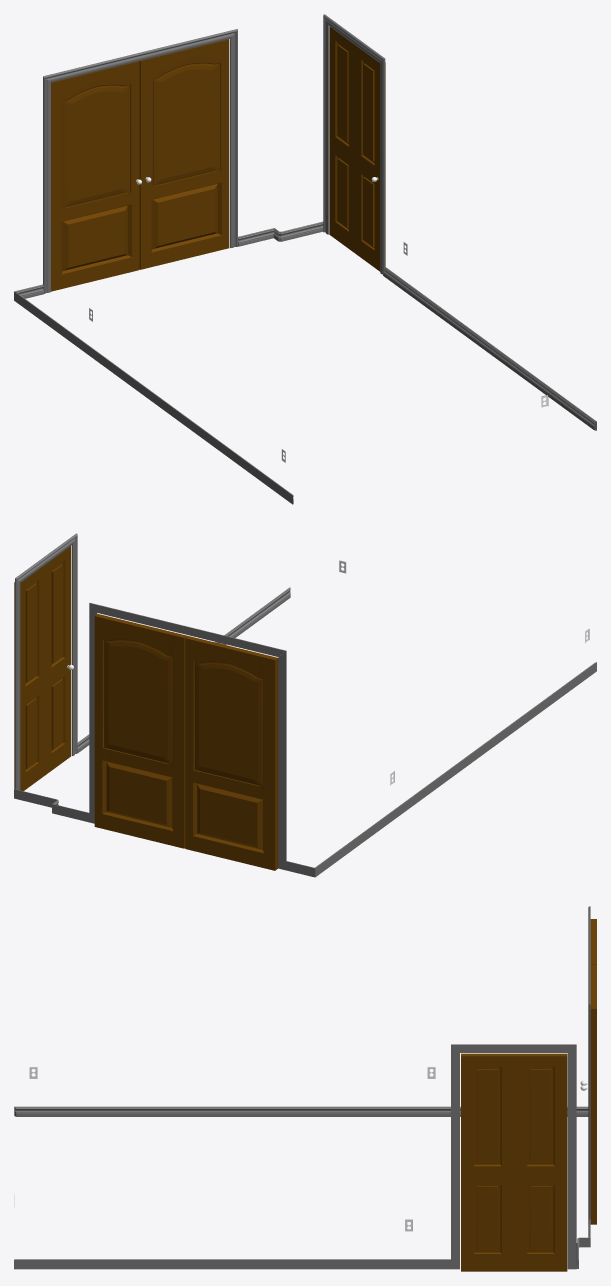
Rendered from Doors&FloorBoards.obj.
3 views of the same model, one above another, from view 1: azimuth 30°, elevation 25°; view 2: azimuth 150°, elevation 25°; view 3: azimuth 270°, elevation 25° (orthographic). The views are drawn at different scales.
Parts seen in each view (by area): view 1: Doors_FloorBoards_pCube238, Doors_FloorBoards_pCube237, Doors_FloorBoards_pCube72, Doors_FloorBoards_pCube69; view 2: Doors_FloorBoards_pCube238, Doors_FloorBoards_pCube237, Doors_FloorBoards_pCube72, Doors_FloorBoards_pCube69; view 3: Doors_FloorBoards_pCube238, Doors_FloorBoards_pCube237, Doors_FloorBoards_pCube72, Doors_FloorBoards_pCube69.
Part boxes in pixels (<box>): Doors_FloorBoards_pCube238: <box>51,26,385,291</box>; Doors_FloorBoards_pCube237: <box>43,14,385,293</box>; Doors_FloorBoards_pCube72: <box>14,291,293,504</box>; Doors_FloorBoards_pCube69: <box>383,266,596,430</box>; Doors_FloorBoards_pCube238: <box>14,546,278,870</box>; Doors_FloorBoards_pCube237: <box>15,533,286,870</box>; Doors_FloorBoards_pCube72: <box>315,662,596,876</box>; Doors_FloorBoards_pCube69: <box>77,587,290,752</box>; Doors_FloorBoards_pCube238: <box>461,919,596,1271</box>; Doors_FloorBoards_pCube237: <box>451,906,590,1269</box>; Doors_FloorBoards_pCube72: <box>14,1106,588,1116</box>; Doors_FloorBoards_pCube69: <box>14,1259,450,1269</box>.
Size of the model in its own units: 124 by 83.35 by 196.
